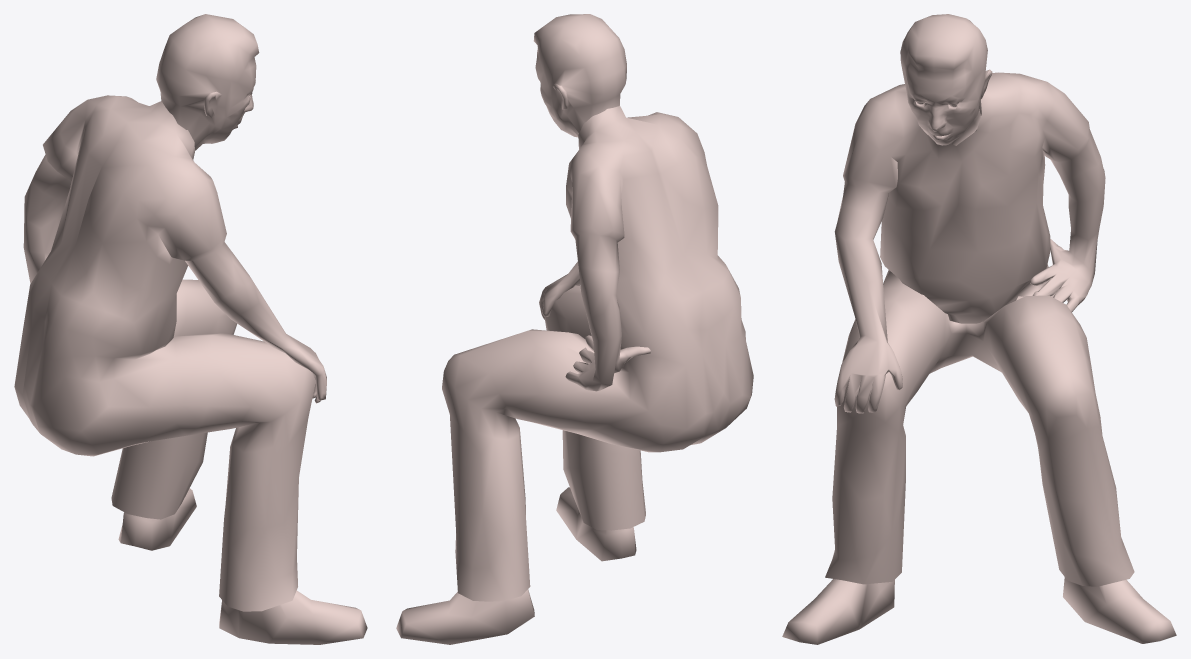
Rendered from Spectator 2.fbx.
3 views of the same model, side by side, from view 1: azimuth 30°, elevation 25°; view 2: azimuth 150°, elevation 25°; view 3: azimuth 270°, elevation 25° (orthographic). The views are drawn at different scales.
Parts seen in each view (by area): view 1: Spectator; view 2: Spectator; view 3: Spectator.
Boxes of the visible parts, <box> form: Spectator: <box>14,14,367,644</box>; Spectator: <box>396,14,753,644</box>; Spectator: <box>782,14,1176,644</box>.
Bounding box in the file's own units: 80.82 × 174 × 105.
